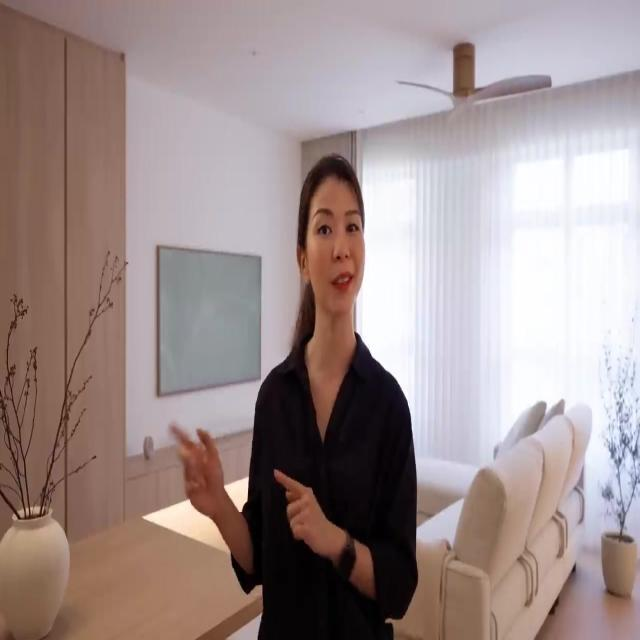obstacle: (391, 398, 592, 638)
person: (168, 152, 418, 638)
